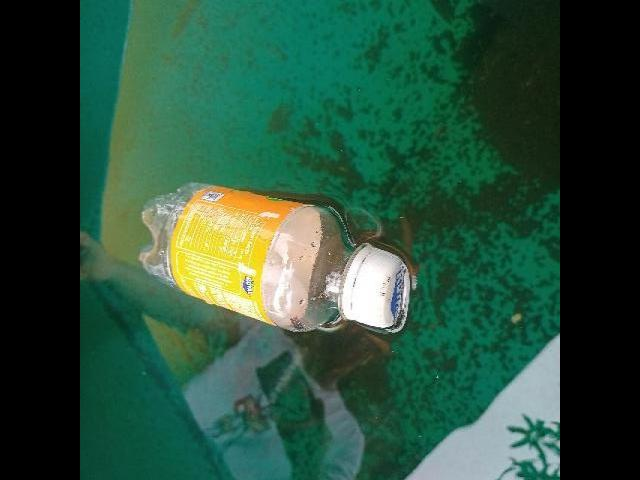Bottle: (134, 174, 418, 352)
